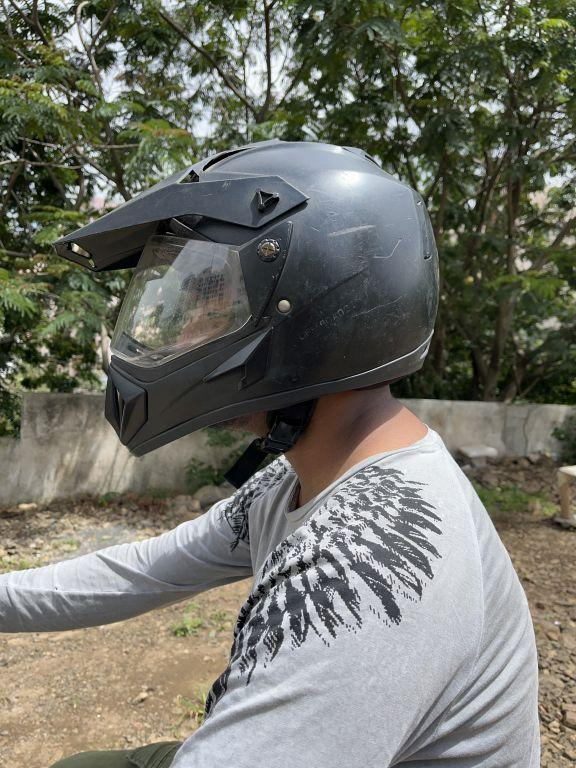helmet: (54, 140, 450, 465)
